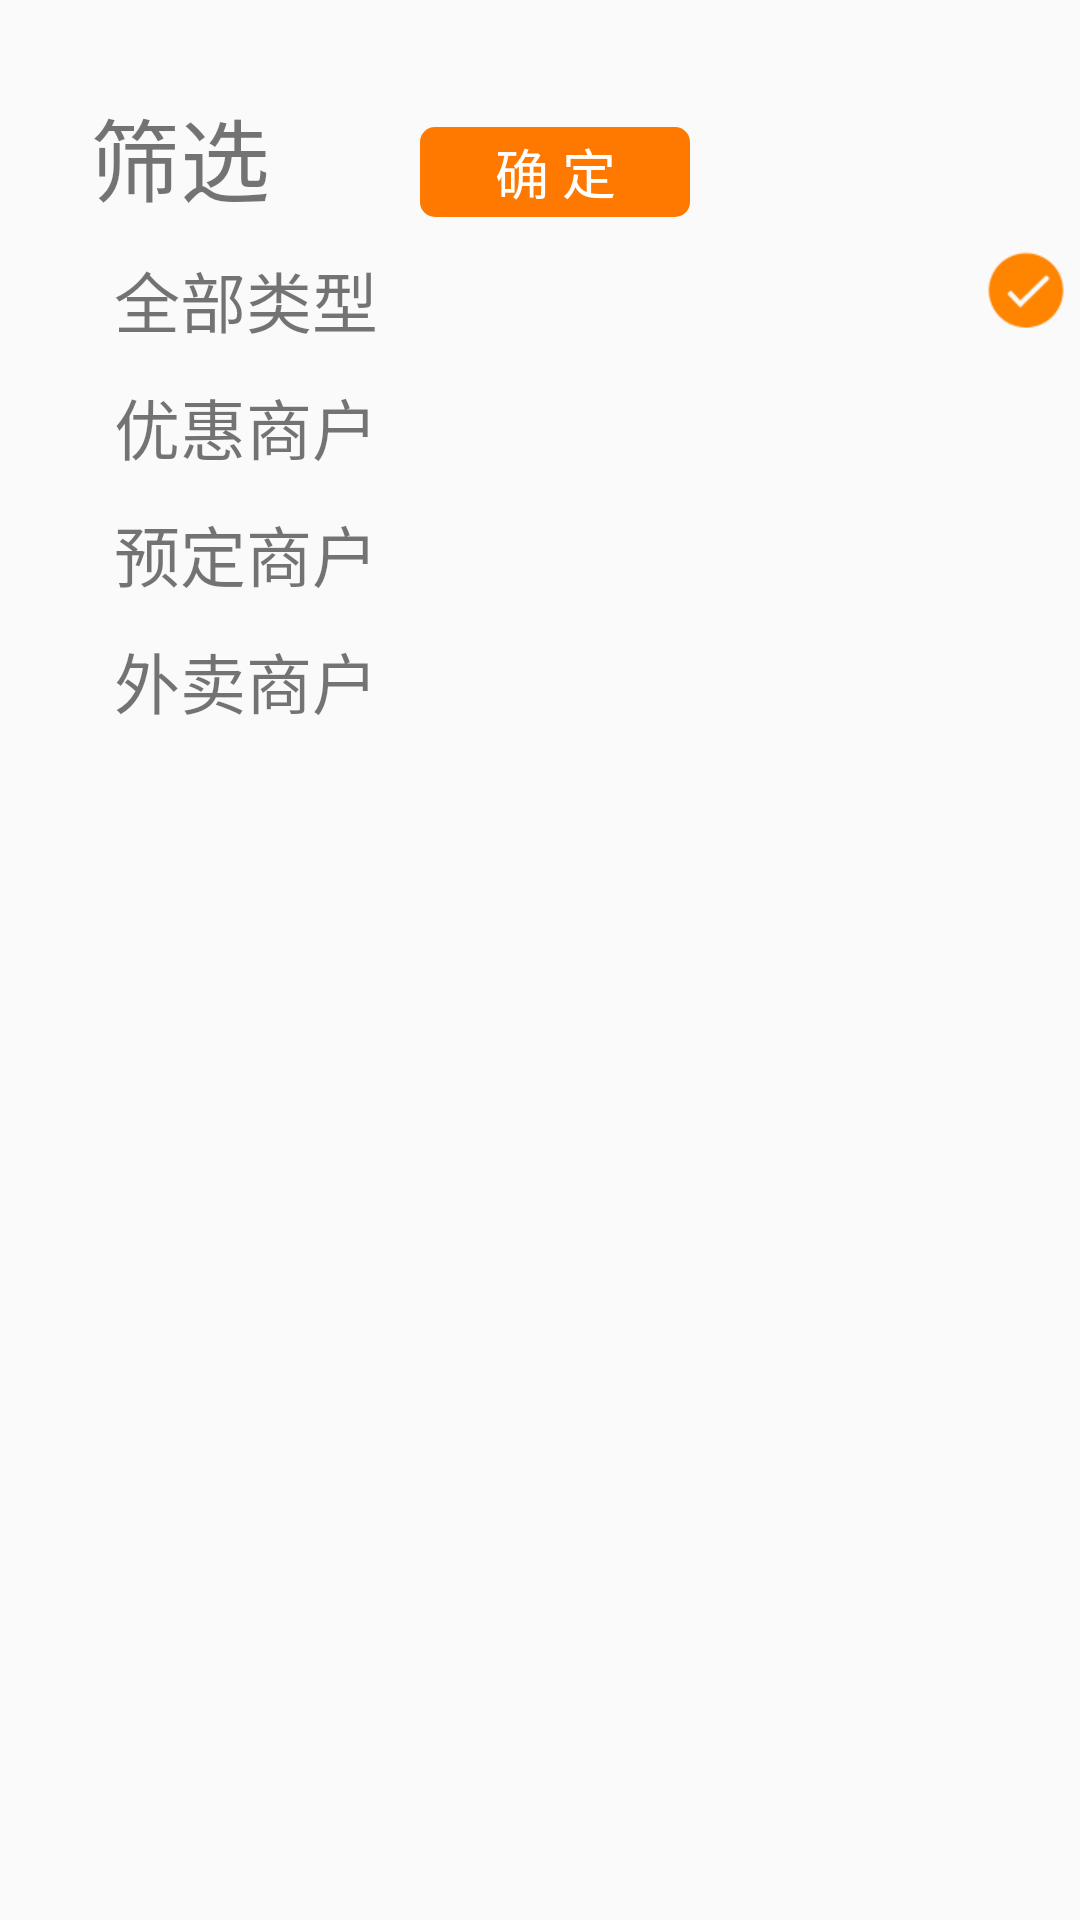

Where icons sit on this 1080px×1920px app screen, as [x1=x1, y1=y1, x2=x2, y2=y2]:
checkbox: [x1=988, y1=252, x2=1064, y2=328]
